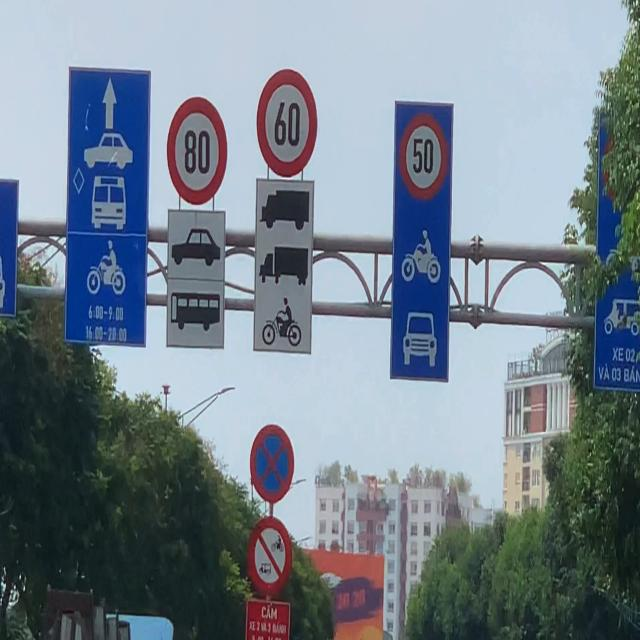Cam con lai: (248, 514, 292, 598)
Cam dung va do: (250, 423, 294, 503)
Toc do toi da: (166, 96, 228, 206), (256, 68, 318, 178), (399, 113, 448, 200)
